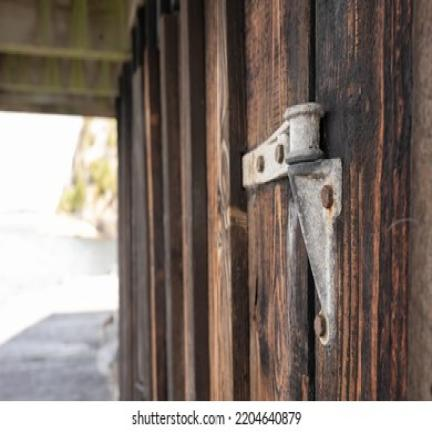karat: (274, 139, 289, 171)
